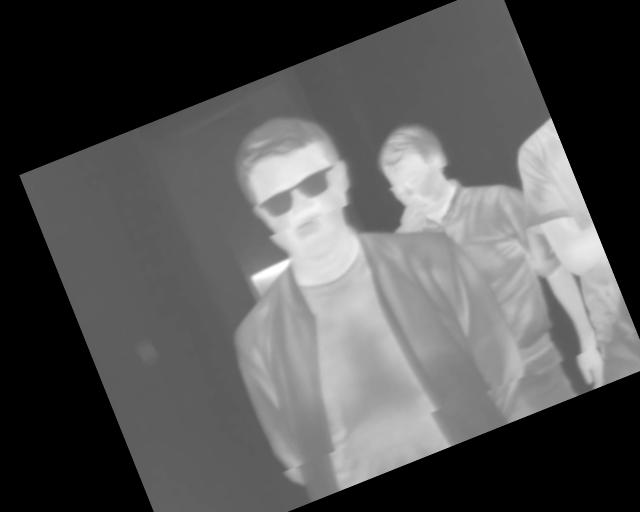face: (221, 98, 371, 266), (366, 113, 466, 227)
